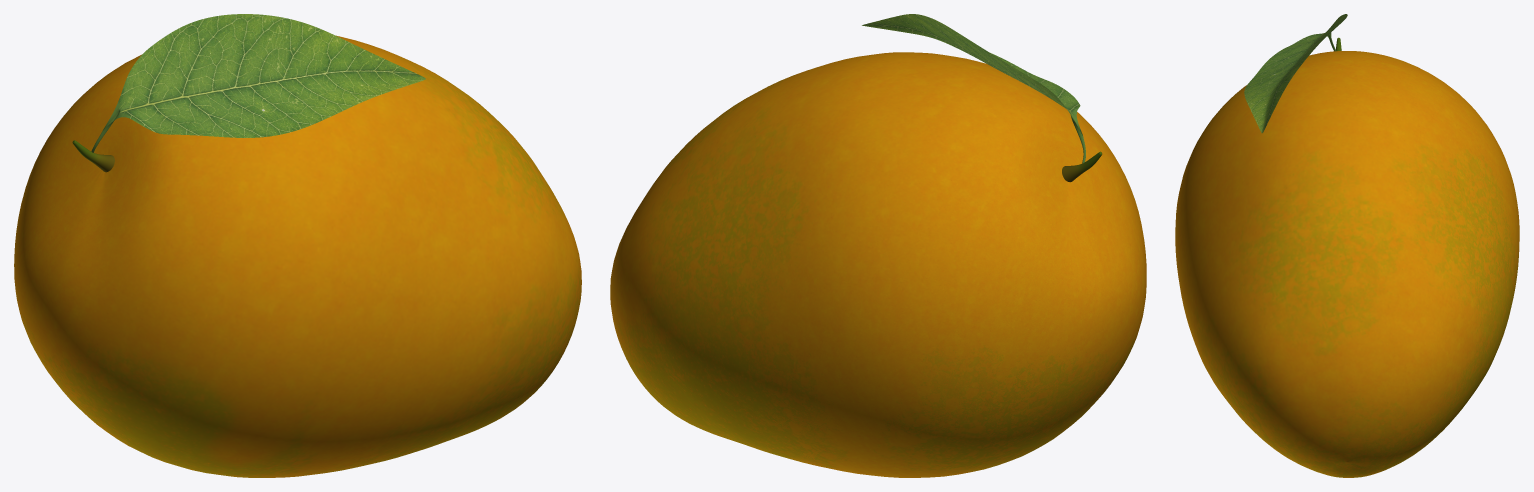
File: mango_obj.obj
3 views of the same model, side by side, from view 1: azimuth 30°, elevation 25°; view 2: azimuth 150°, elevation 25°; view 3: azimuth 270°, elevation 25° (orthographic). The views are drawn at different scales.
Parts seen in each view (by area): view 1: mango_Sphere, leaf_Cube.002; view 2: mango_Sphere, leaf_Cube.002; view 3: mango_Sphere, leaf_Cube.002.
Boxes of the visible parts, x1=… form: mango_Sphere: x1=14, y1=35, x2=581, y2=477; leaf_Cube.002: x1=72, y1=14, x2=425, y2=172; mango_Sphere: x1=610, y1=52, x2=1146, y2=477; leaf_Cube.002: x1=862, y1=14, x2=1102, y2=182; mango_Sphere: x1=1175, y1=51, x2=1519, y2=477; leaf_Cube.002: x1=1244, y1=14, x2=1347, y2=133.
Size of the model in its own units: 0.2427 by 0.2056 by 0.1799.
